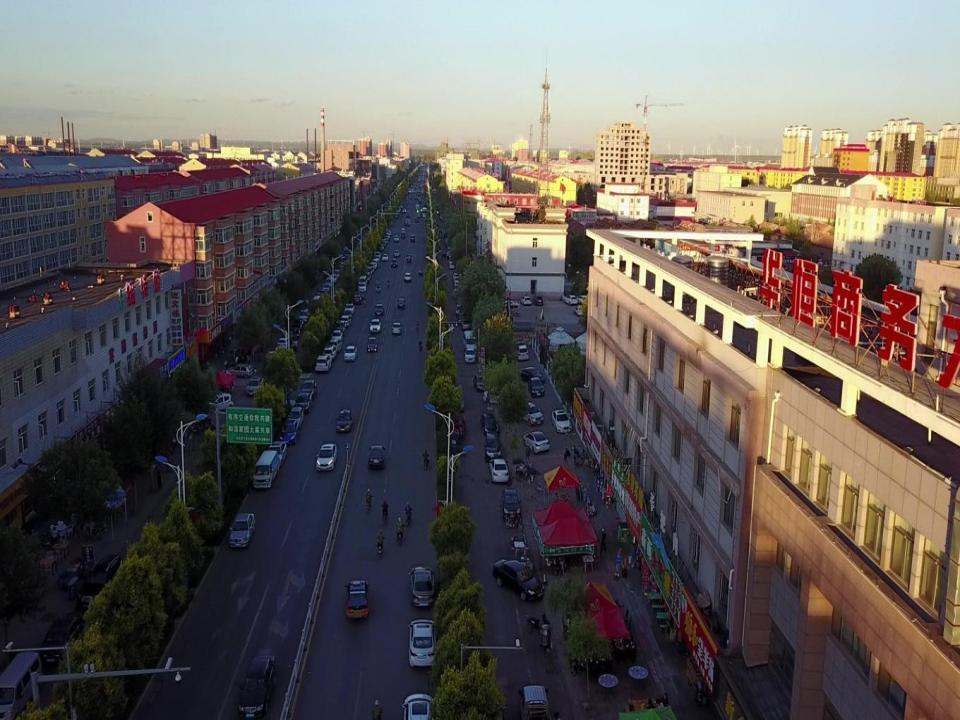car: (38, 605, 90, 674), (75, 552, 125, 610), (238, 654, 278, 720), (493, 558, 546, 602), (407, 618, 438, 668), (408, 564, 436, 608), (344, 579, 372, 621), (228, 512, 256, 549), (401, 692, 437, 720), (501, 486, 523, 522), (514, 401, 544, 426), (203, 392, 235, 414), (522, 430, 550, 455), (316, 442, 338, 472), (266, 440, 289, 467), (488, 456, 510, 483), (484, 430, 502, 463), (221, 363, 255, 380), (550, 408, 573, 433), (517, 366, 547, 385), (367, 444, 387, 471), (279, 419, 299, 446), (334, 408, 354, 434), (482, 387, 509, 406), (298, 377, 318, 402), (480, 411, 500, 436), (294, 392, 314, 414), (526, 376, 546, 398), (244, 376, 264, 397), (286, 406, 305, 428), (314, 354, 333, 374), (472, 372, 489, 392), (502, 303, 522, 319), (322, 344, 338, 362), (498, 298, 518, 312), (289, 317, 305, 334), (343, 344, 358, 362), (330, 328, 343, 348), (275, 336, 291, 352), (328, 338, 343, 355), (463, 346, 477, 364), (334, 320, 348, 338), (298, 307, 310, 324), (366, 336, 378, 353), (340, 314, 353, 329), (342, 302, 355, 317), (562, 294, 579, 305), (369, 318, 381, 333), (574, 294, 589, 305), (532, 294, 544, 307), (519, 294, 532, 306), (391, 322, 403, 335), (573, 304, 585, 316), (460, 318, 472, 330), (374, 303, 385, 315), (352, 294, 362, 305), (357, 281, 367, 292), (454, 302, 463, 314), (397, 298, 406, 310), (405, 252, 413, 264), (404, 271, 412, 281), (392, 233, 400, 243), (390, 258, 398, 267), (409, 233, 416, 243), (382, 252, 388, 262), (394, 248, 400, 258), (400, 227, 406, 233), (400, 232, 405, 239)
truck: (516, 684, 552, 720)
van: (0, 651, 47, 719), (252, 449, 280, 489), (462, 329, 479, 351), (516, 342, 529, 362), (358, 275, 368, 286)
